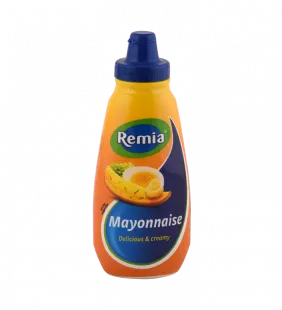REMIA: (84, 20, 197, 284)
